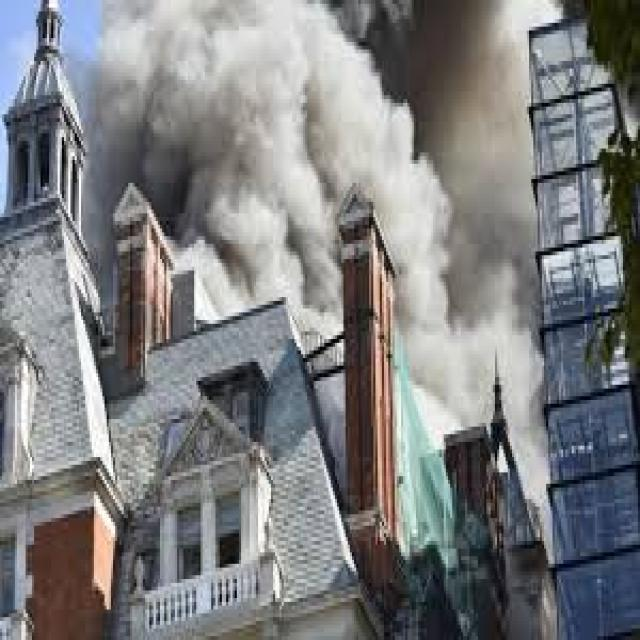Smoke: (80, 2, 567, 396)
